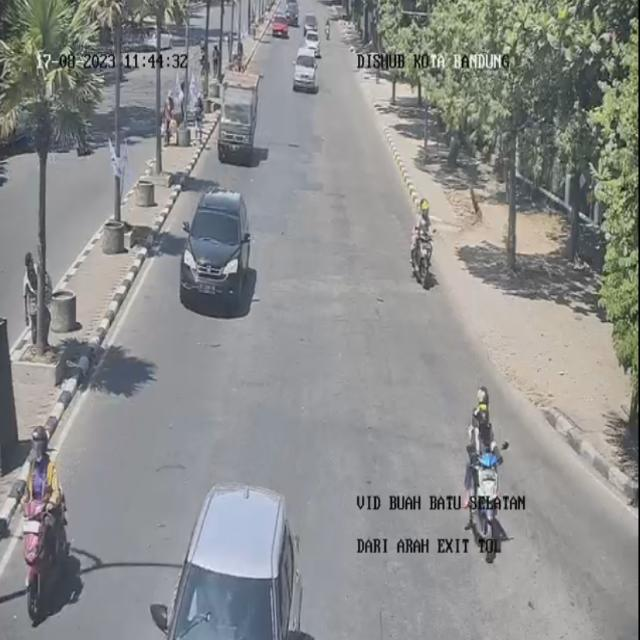cars: (172, 475, 311, 640), (179, 184, 250, 320), (222, 73, 266, 161), (292, 50, 322, 92), (271, 10, 289, 40)
motorcycle: (16, 428, 73, 616), (458, 384, 506, 550), (412, 192, 440, 287)
